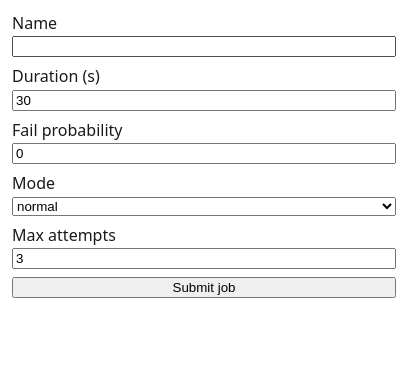
Test: SubmitJobForm server errors › shows a 400 message verbatim and keeps the input
Type "keepme" into the field labelled "Name" at (204, 47), box 12,36 -> 396,57
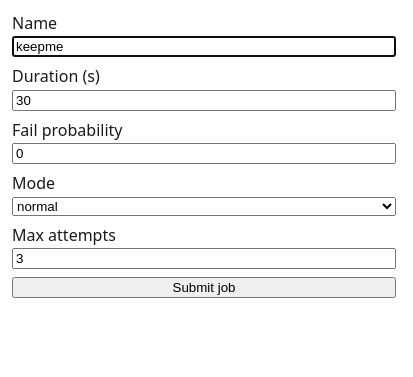
Click the button "Submit job" at (204, 288), box 12,277 -> 396,298
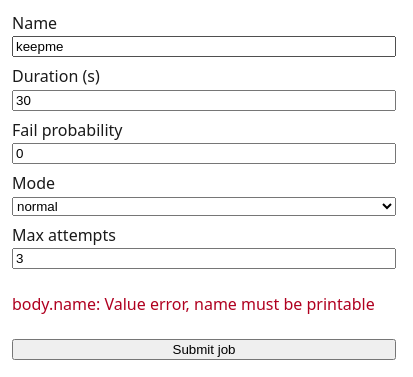
expect the message reads "body.name: Value error, name must be printable": met, box 12,293 -> 375,315
